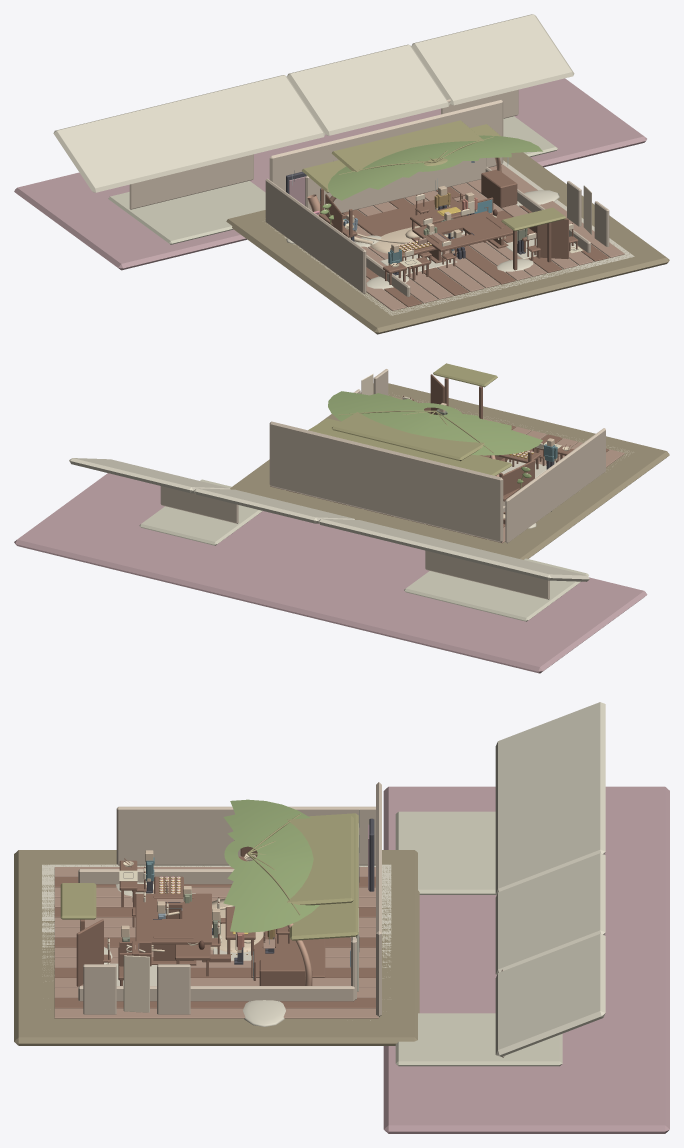
File: first-country-locations.glb
3 views of the same model, one above another, from view 1: azimuth 30°, elevation 25°; view 2: azimuth 150°, elevation 25°; view 3: azimuth 270°, elevation 25° (orthographic). The views are drawn at different scales.
Parts seen in each view (by area): view 1: OrchardCountryBehind, OrchardGround, DistantCountryPeel.002, DistantCountryPeel.003, DistantCountryPeel, TheatreFloorBoardBatch, DistantCountryPeel.001, WeddingLeafRoof, TheatreLeftWall, TheatreBackWall, HouseBackWall, ShedCountryFloor (+18 smaller); view 2: OrchardCountryBehind, TheatreBackWall, OrchardGround, WeddingLeafRoof, TheatreLeftWall, ShedCountryFloor, ShedCountryFloor.002, SettledRoof.001, DistantCountryPeel, DistantCountryPeel.002, DistantCountryPeel.003, SettledRoof (+8 smaller); view 3: OrchardCountryBehind, OrchardGround, TheatreFloorBoardBatch, DistantCountryPeel.003, WeddingLeafRoof, DistantCountryPeel.002, DistantCountryPeel, DistantCountryPeel.001, TheatreLeftWall, ShedCountryFloor.002, ShedCountryFloor, SettledRoof.001 (+16 smaller).
Boxes of the visible parts, x1,y1,x2,y2 form: OrchardCountryBehind: (14,78,646,270); OrchardGround: (226,152,669,334); DistantCountryPeel.002: (287,44,449,135); DistantCountryPeel.003: (411,14,574,105); DistantCountryPeel: (53,101,214,192); TheatreFloorBoardBatch: (342,164,624,310); DistantCountryPeel.001: (166,75,325,165); WeddingLeafRoof: (328,135,542,200); TheatreLeftWall: (265,178,366,293); TheatreBackWall: (269,100,503,191); HouseBackWall: (305,158,486,213); ShedCountryFloor: (108,192,231,244); OrchardCountryBehind: (14,473,647,673); TheatreBackWall: (269,421,503,542); OrchardGround: (230,383,669,559); WeddingLeafRoof: (328,391,542,455); TheatreLeftWall: (505,428,605,543); ShedCountryFloor: (451,558,588,621); ShedCountryFloor.002: (139,479,262,545); SettledRoof.001: (332,412,484,461); DistantCountryPeel: (428,545,589,581); DistantCountryPeel.002: (194,488,354,523); DistantCountryPeel.003: (69,458,230,493); SettledRoof: (308,418,512,475); OrchardCountryBehind: (383,786,669,1133); OrchardGround: (14,850,419,1045); TheatreFloorBoardBatch: (54,867,378,1018); DistantCountryPeel.003: (495,934,605,1056); WeddingLeafRoof: (223,799,319,932); DistantCountryPeel.002: (495,853,605,974); DistantCountryPeel: (495,702,605,822); DistantCountryPeel.001: (495,774,605,893); TheatreLeftWall: (116,806,375,865); ShedCountryFloor.002: (395,1013,562,1066); ShedCountryFloor: (395,811,495,859); SettledRoof.001: (287,815,353,905).
Bounding box in the file's own units: 34 × 5.16 × 27.5.
